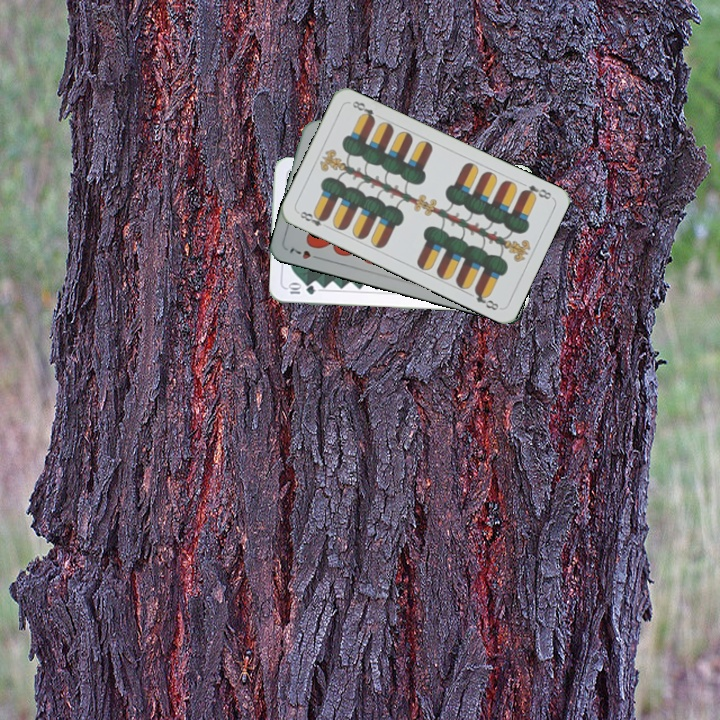E8: (294, 207, 330, 229), (517, 181, 554, 202)
G10: (284, 281, 318, 297)
H7: (286, 244, 324, 262)
